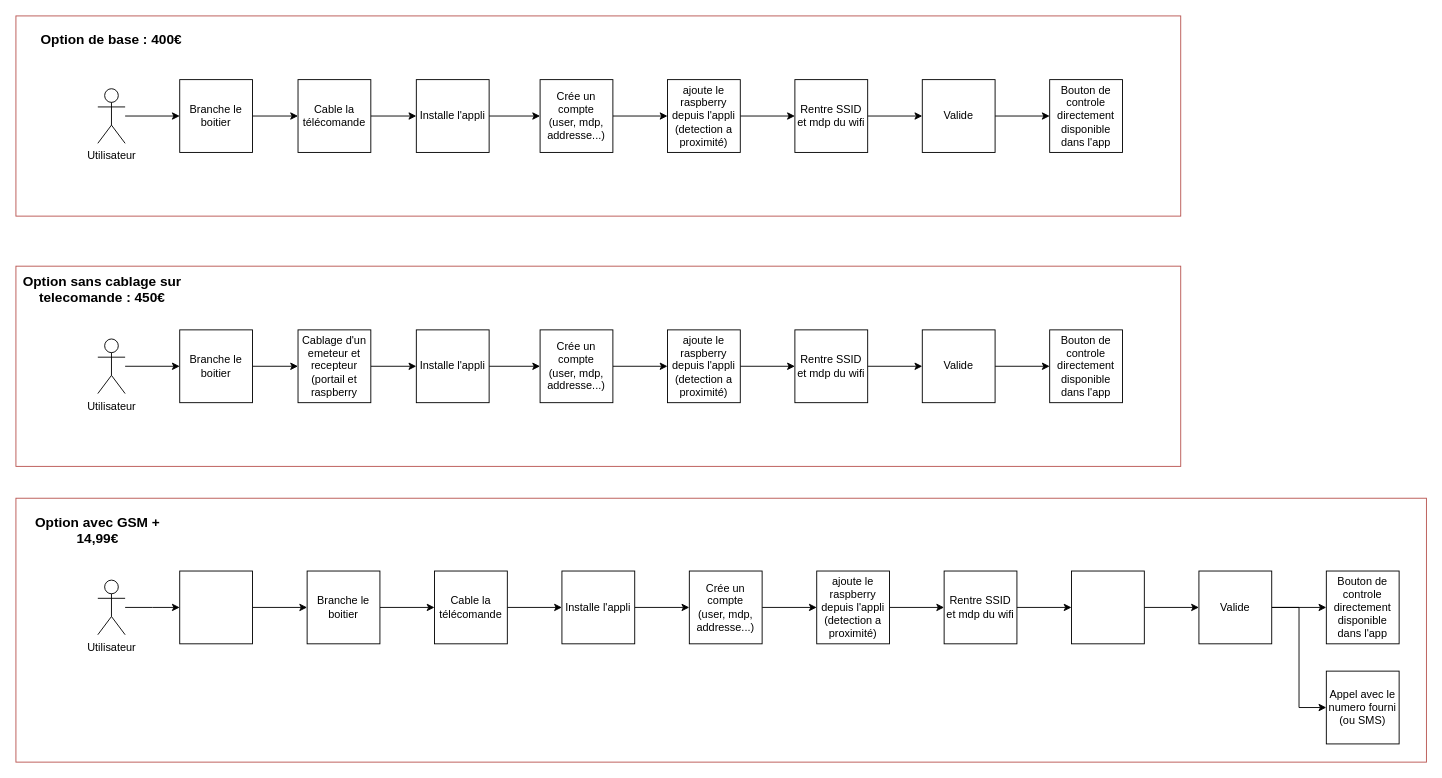
The diagram is 1442 pixels wide and 778 high, and some of its shapes have lost their labels. Here are the shapes that lost their labels. From the top down, the box of each, then its label:
(179, 570, 253, 644): Achat du package avec l'option GSM
(1071, 570, 1144, 644): Activation et payment de l'abonement MENSUEL GSM
